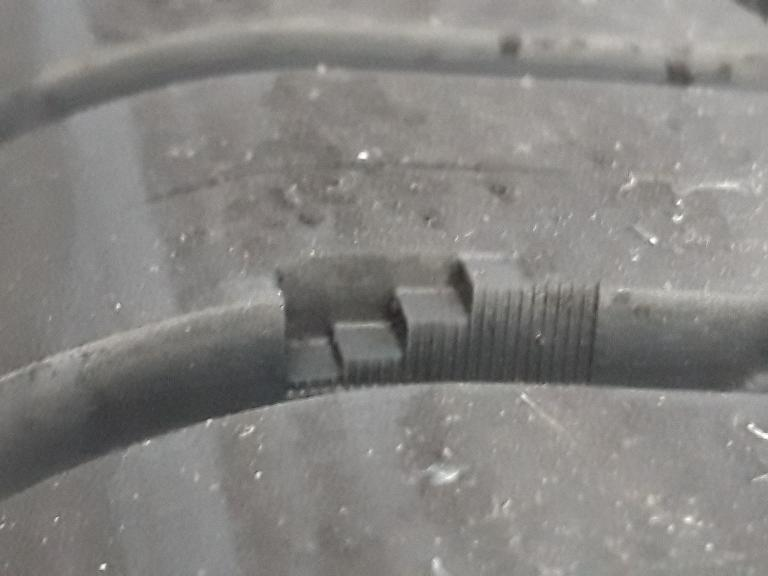temoin:75: (257, 237, 550, 411)
